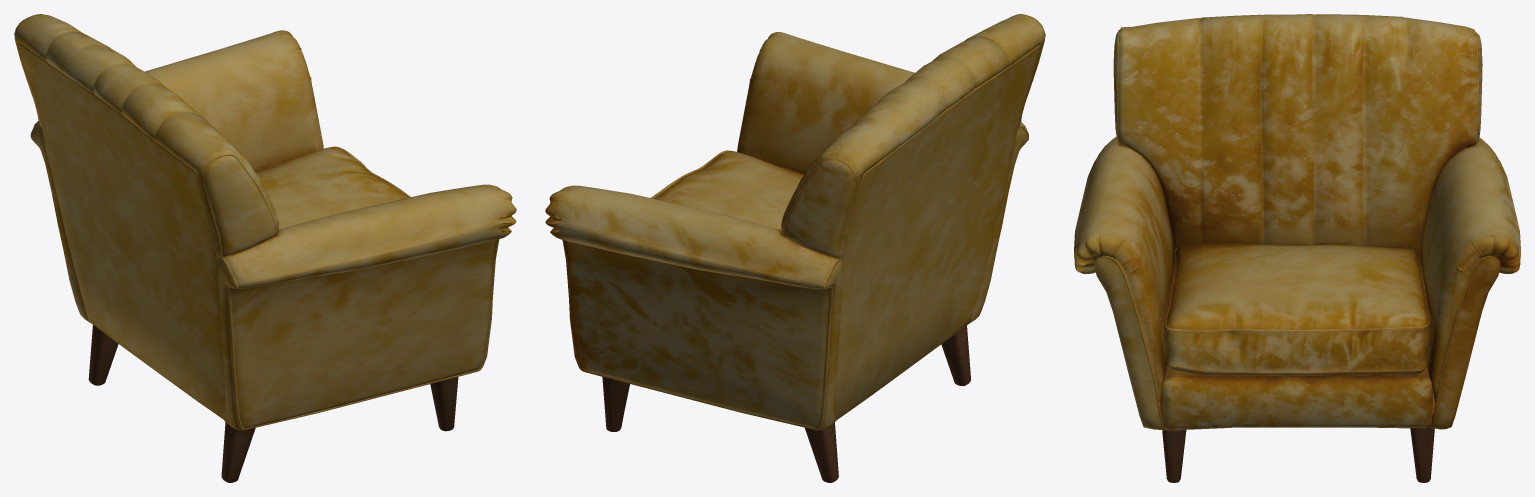
The model's file is native-01.glb.
The picture shows the model from 3 angles, left to right: view 1: azimuth 30°, elevation 25°; view 2: azimuth 150°, elevation 25°; view 3: azimuth 270°, elevation 25°; orthographic projection. The views are drawn at different scales.
Parts seen in each view (by area): view 1: tripo_node_d8f4a606-5784-4868-8fd0-28c4cd01a10e; view 2: tripo_node_d8f4a606-5784-4868-8fd0-28c4cd01a10e; view 3: tripo_node_d8f4a606-5784-4868-8fd0-28c4cd01a10e.
Part boxes in pixels (left/top/right/bottom): tripo_node_d8f4a606-5784-4868-8fd0-28c4cd01a10e: left=14, top=14, right=516, bottom=482; tripo_node_d8f4a606-5784-4868-8fd0-28c4cd01a10e: left=545, top=14, right=1045, bottom=482; tripo_node_d8f4a606-5784-4868-8fd0-28c4cd01a10e: left=1074, top=14, right=1520, bottom=482.
Bounding box in the file's own units: 0.7612 × 0.856 × 0.9956.
1 material, 1 textured.
